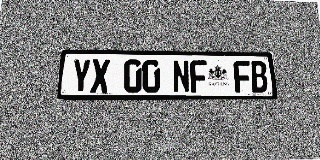0: (124, 59, 142, 93), (142, 60, 160, 93)
B: (250, 61, 268, 92)
F: (190, 60, 208, 93), (233, 61, 252, 92)
N: (172, 60, 190, 93)
X: (90, 59, 110, 93)
Y: (71, 59, 91, 93)
